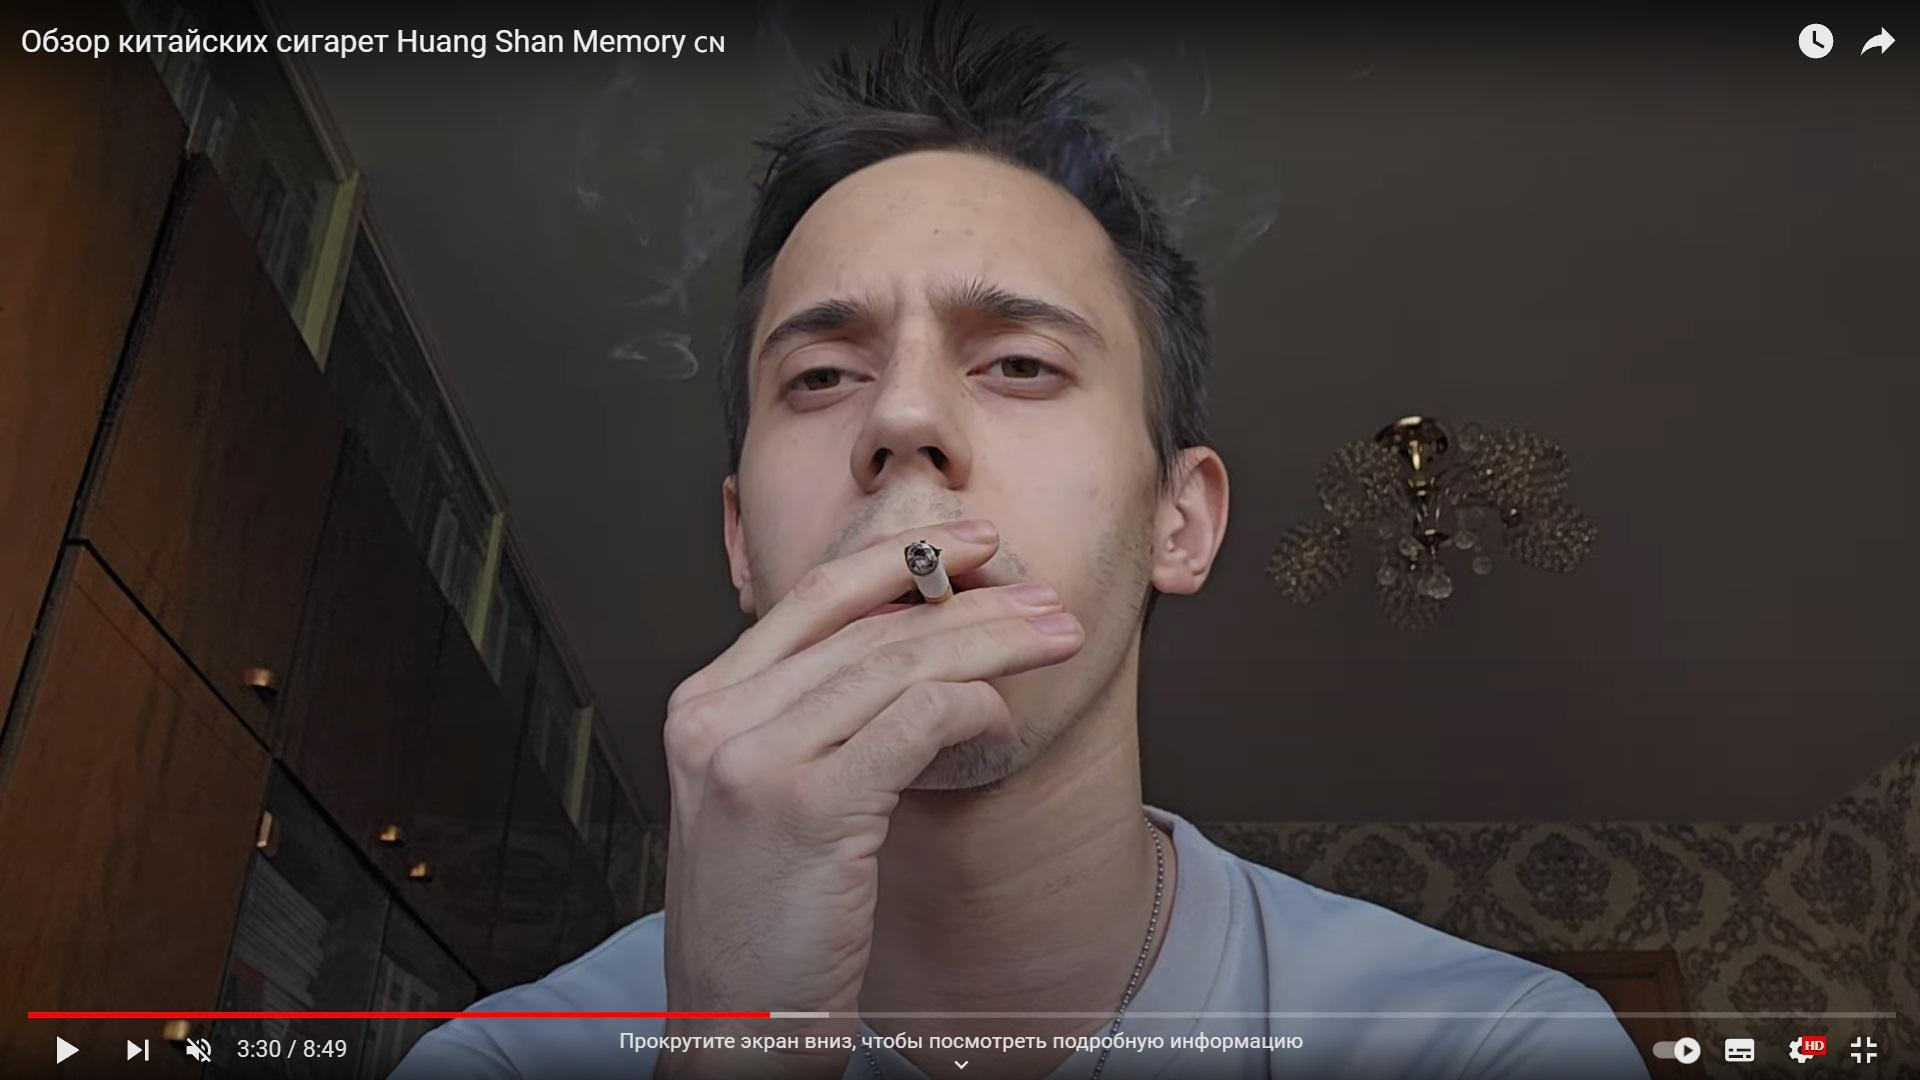cigarette: (905, 538, 955, 604)
